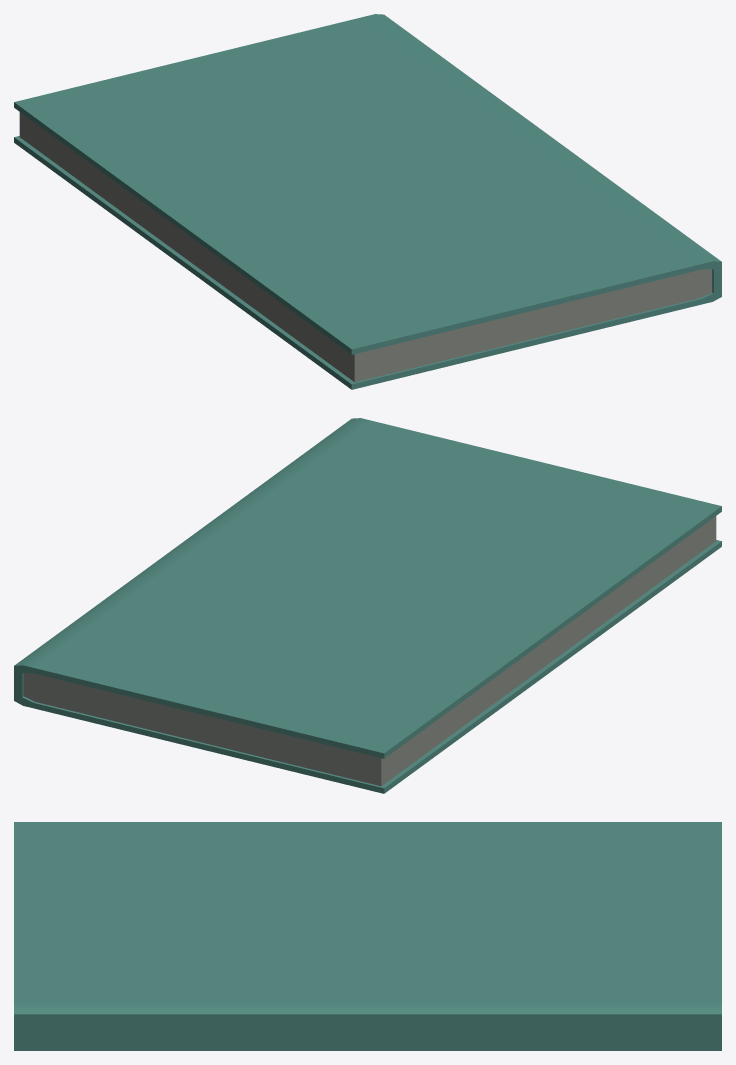
Rendered from Book.007.fbx.
The picture shows the model from 3 angles, top to bottom: view 1: azimuth 30°, elevation 25°; view 2: azimuth 150°, elevation 25°; view 3: azimuth 270°, elevation 25°; orthographic projection. The views are drawn at different scales.
Visible parts, largest first — view 1: Book.007; view 2: Book.007; view 3: Book.007.
Boxes of the visible parts, bbox=[...] form: Book.007: bbox=[14, 14, 721, 389]; Book.007: bbox=[14, 418, 721, 793]; Book.007: bbox=[14, 822, 721, 1050].
Bounding box in the file's own units: 24.27 × 2.54 × 38.36.
